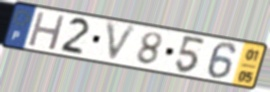2: (58, 17, 93, 59)
5: (173, 34, 208, 76)
6: (206, 41, 238, 81)
8: (135, 31, 165, 66)
H: (26, 10, 68, 52)
V: (104, 20, 140, 65)
